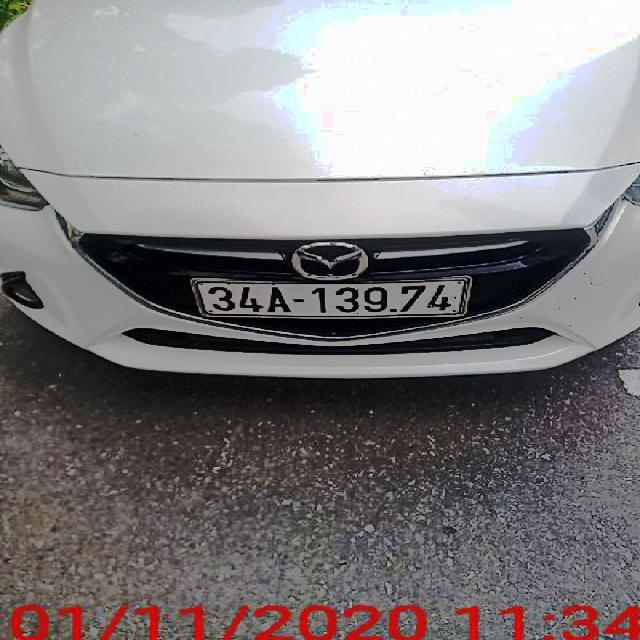license_plate: (199, 280, 464, 316)
